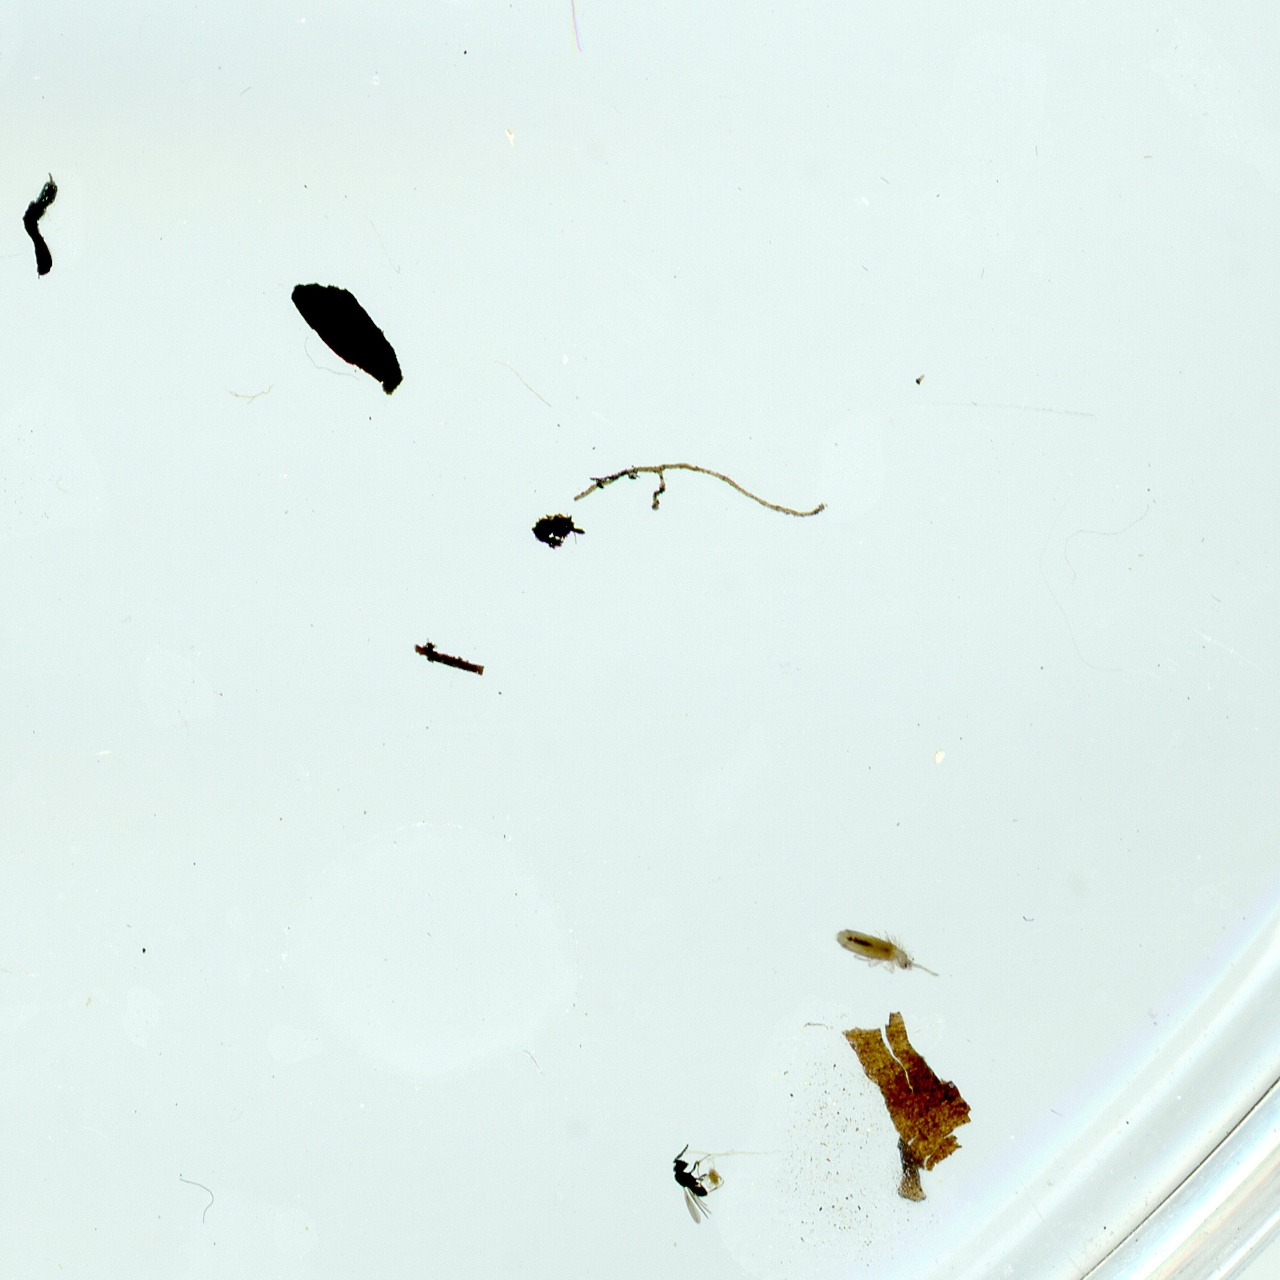arthropod: (834, 922, 942, 978), (667, 1141, 719, 1227)
